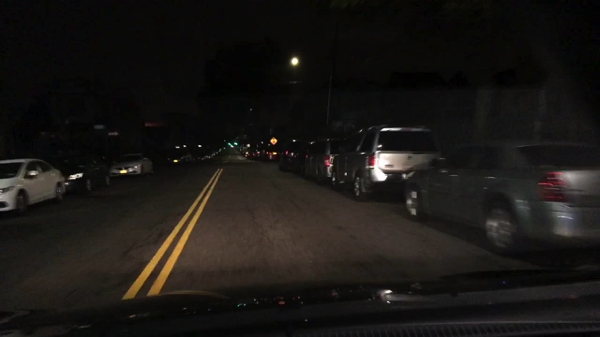car: (405, 136, 599, 252), (331, 122, 439, 203), (0, 158, 66, 219), (54, 154, 110, 194), (305, 138, 342, 182), (106, 154, 156, 181), (278, 139, 301, 174), (298, 142, 313, 174), (167, 152, 187, 165), (264, 151, 279, 161), (188, 154, 199, 165), (196, 152, 206, 163), (207, 152, 216, 162), (213, 149, 220, 156), (218, 147, 223, 156), (244, 152, 250, 158), (239, 144, 244, 151), (256, 149, 260, 157), (222, 146, 227, 152), (250, 151, 254, 158), (260, 152, 264, 158), (243, 149, 247, 154)
traffic light: (233, 141, 238, 146)
traffic sign: (108, 131, 118, 137), (270, 138, 277, 146), (247, 142, 249, 147)
